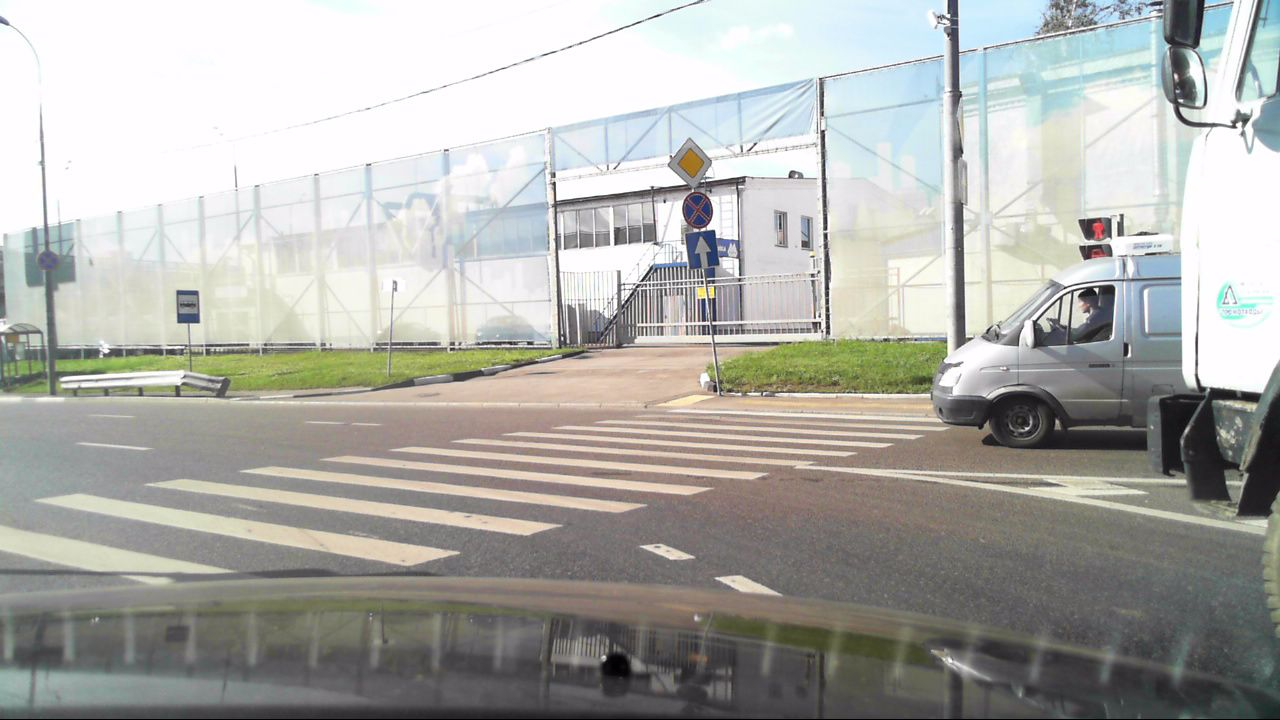No Parking: (681, 190, 717, 232)
